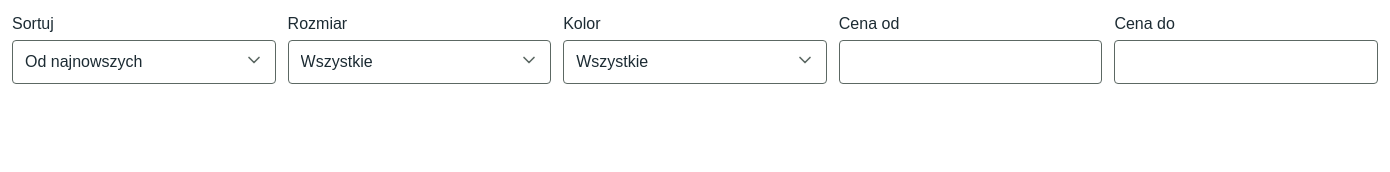
Test: the price field › does not apply 1.5.5, and says why
Type "1.5.5" into the field labelled "Cena od" at (971, 62), box [839, 40, 1102, 84]
Wait 1000 ms
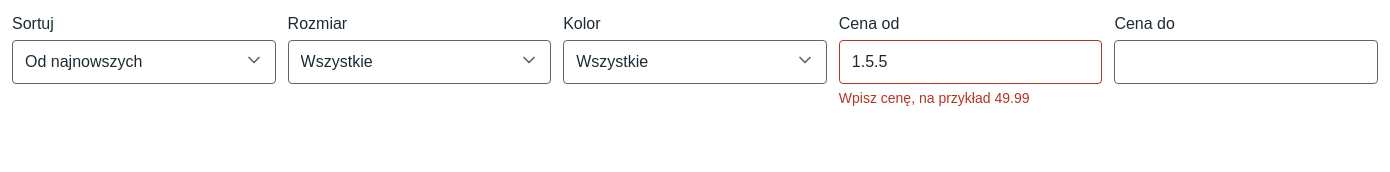
Now the text "Wpisz cenę, na przykład 49.99" is shown, box [839, 90, 1030, 106]
